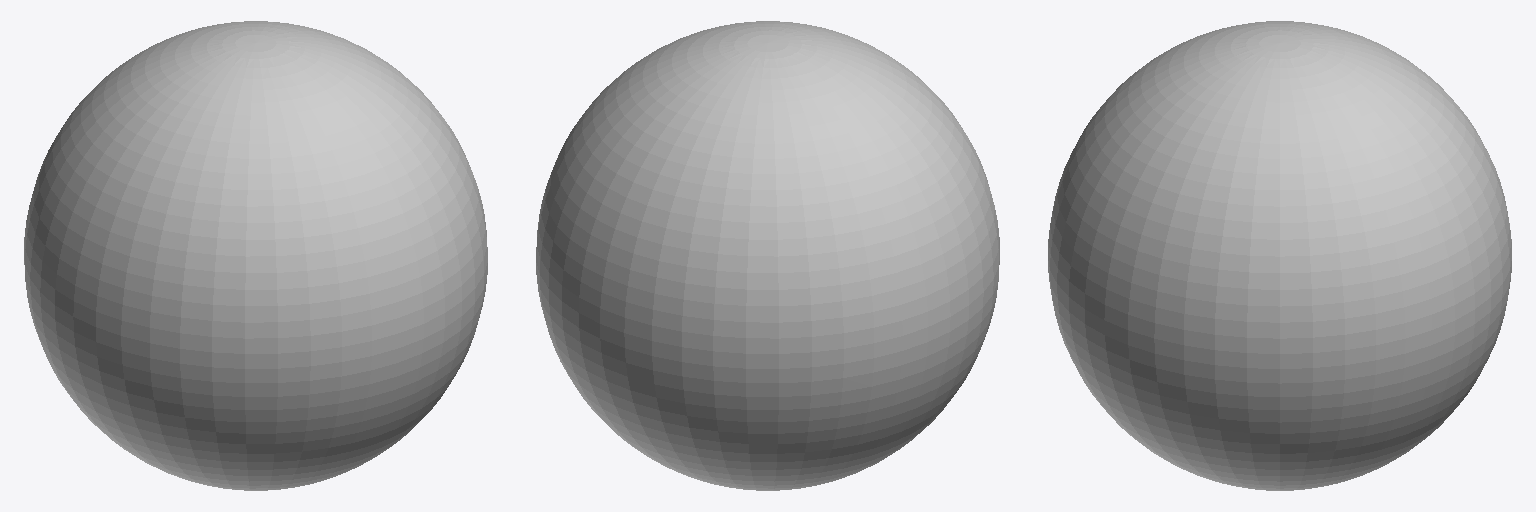
Rendered from mars.obj.
3 renders of one model, left to right at view 1: azimuth 30°, elevation 25°; view 2: azimuth 150°, elevation 25°; view 3: azimuth 270°, elevation 25°, orthographic.
Visible parts, largest first — view 1: Mars; view 2: Mars; view 3: Mars.
Part boxes in pixels (bbox=[...]): Mars: bbox=[24, 21, 487, 490]; Mars: bbox=[536, 21, 999, 490]; Mars: bbox=[1048, 21, 1511, 490].
Size of the model in its own units: 16.25 by 16.45 by 16.25.